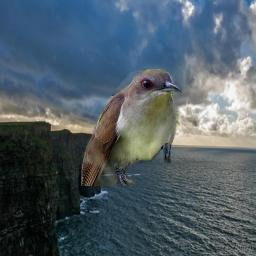Cuckoo: (81, 69, 182, 186)
